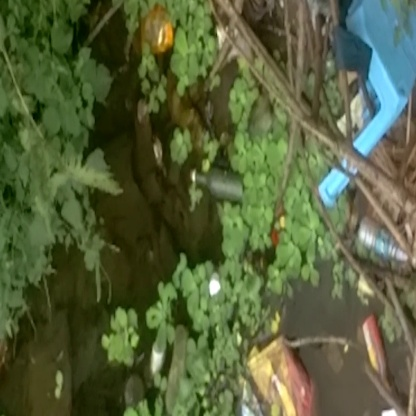branch: (233, 23, 326, 136)
